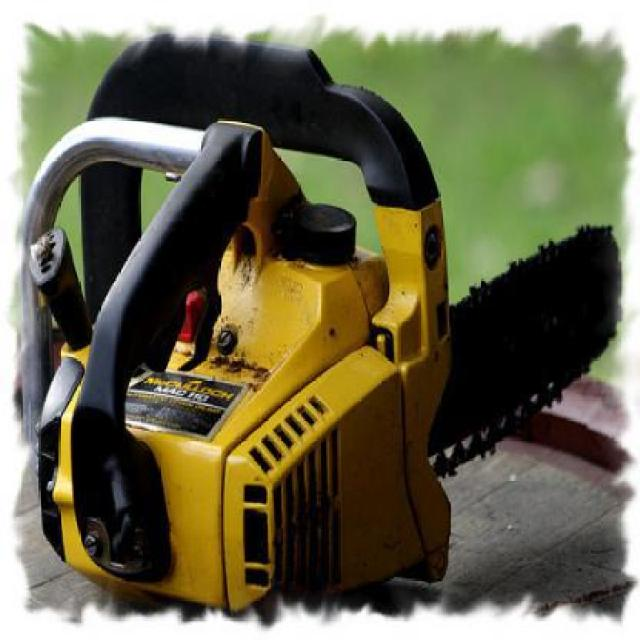Chainsaw: (16, 36, 622, 607)
